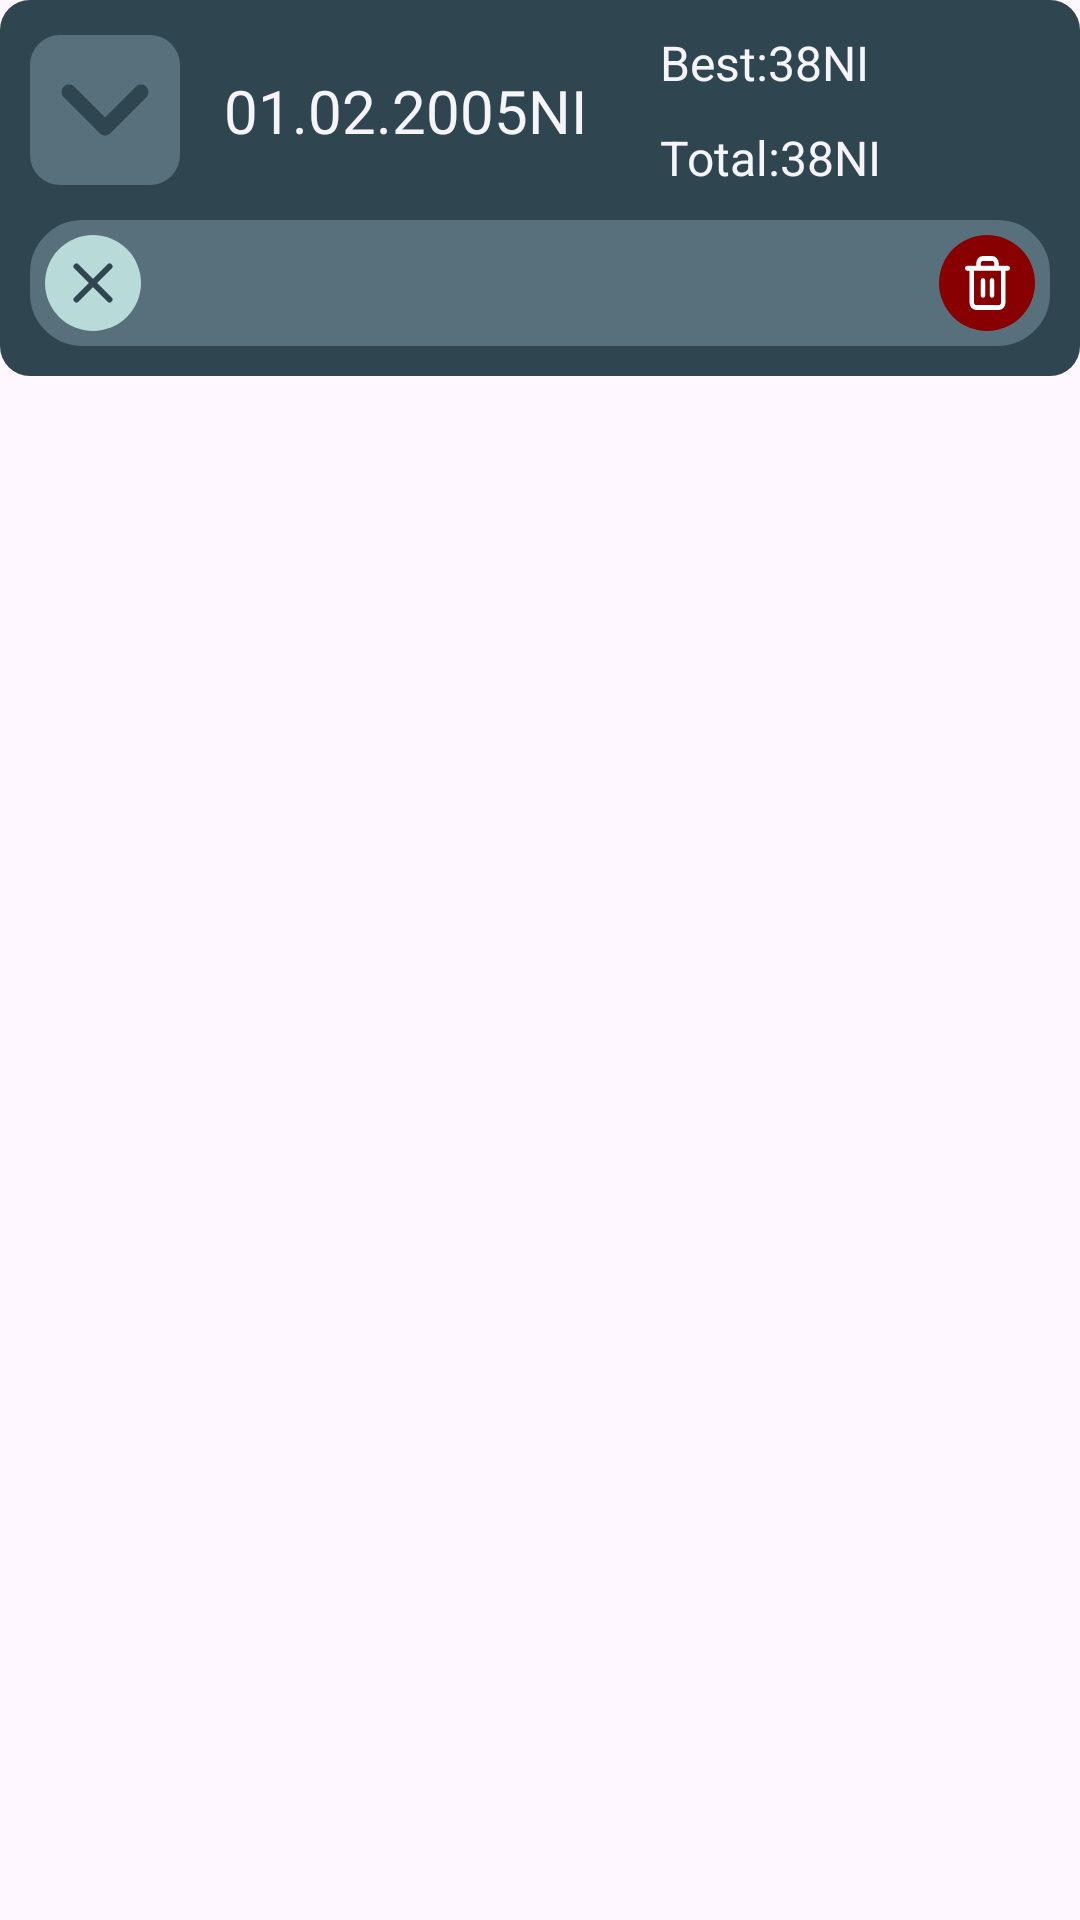

Icons on this 1080 x 1920 Android screen, each with the point to tap as (x,y):
Chevron Down: (105,110)
Close: (93,283)
Delete: (987,283)
